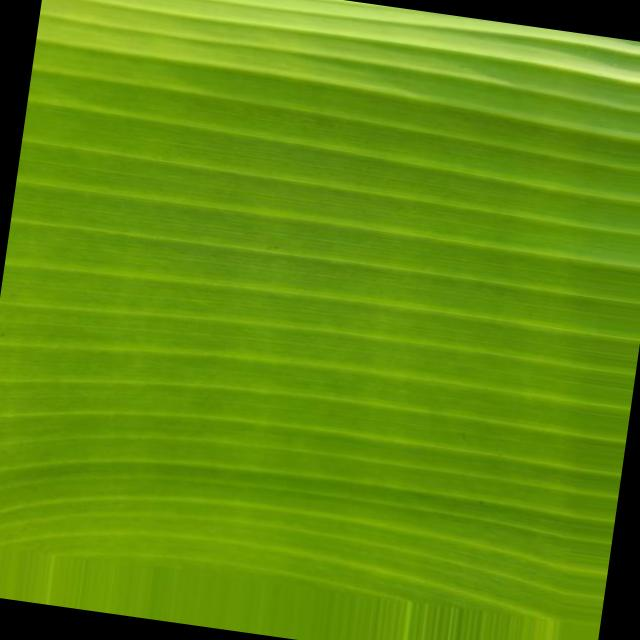Banana_Healthy: (92, 80, 532, 496)
